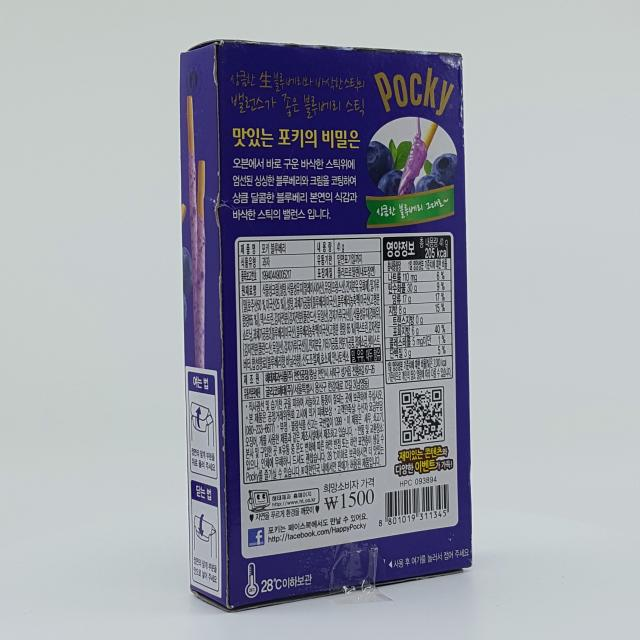-41G: (181, 40, 473, 613)
